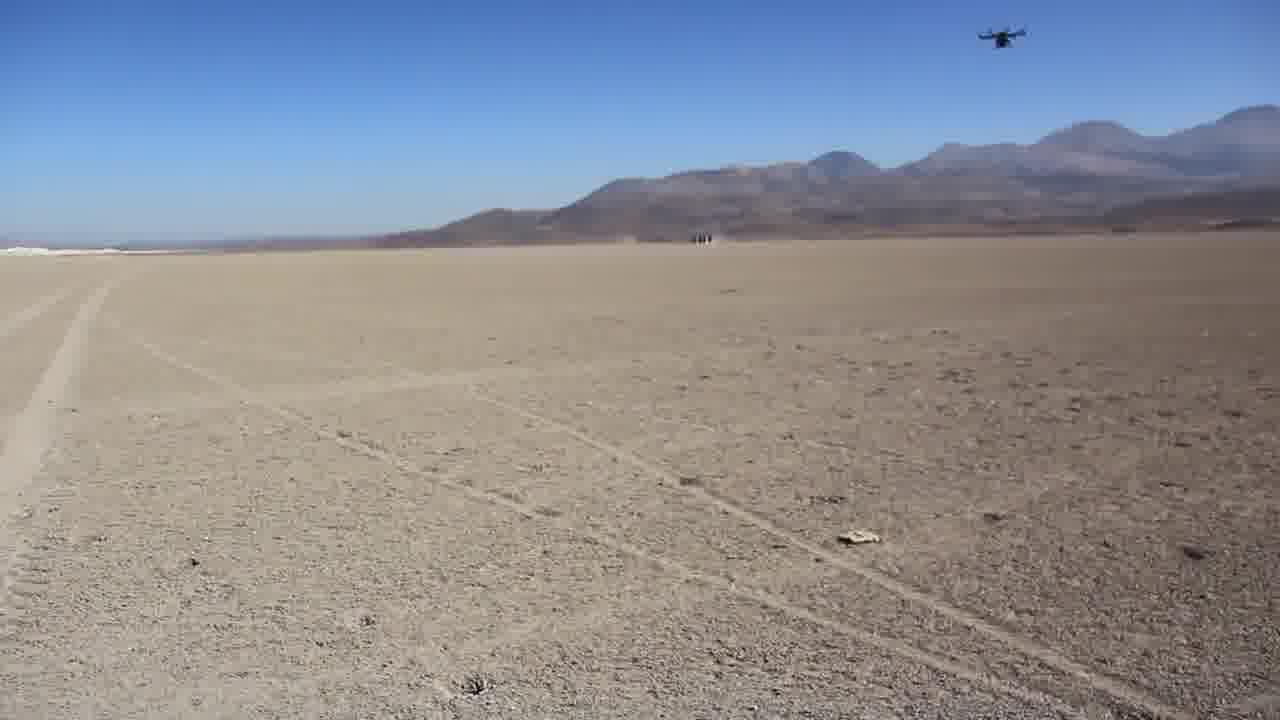drone: (971, 19, 1030, 53)
